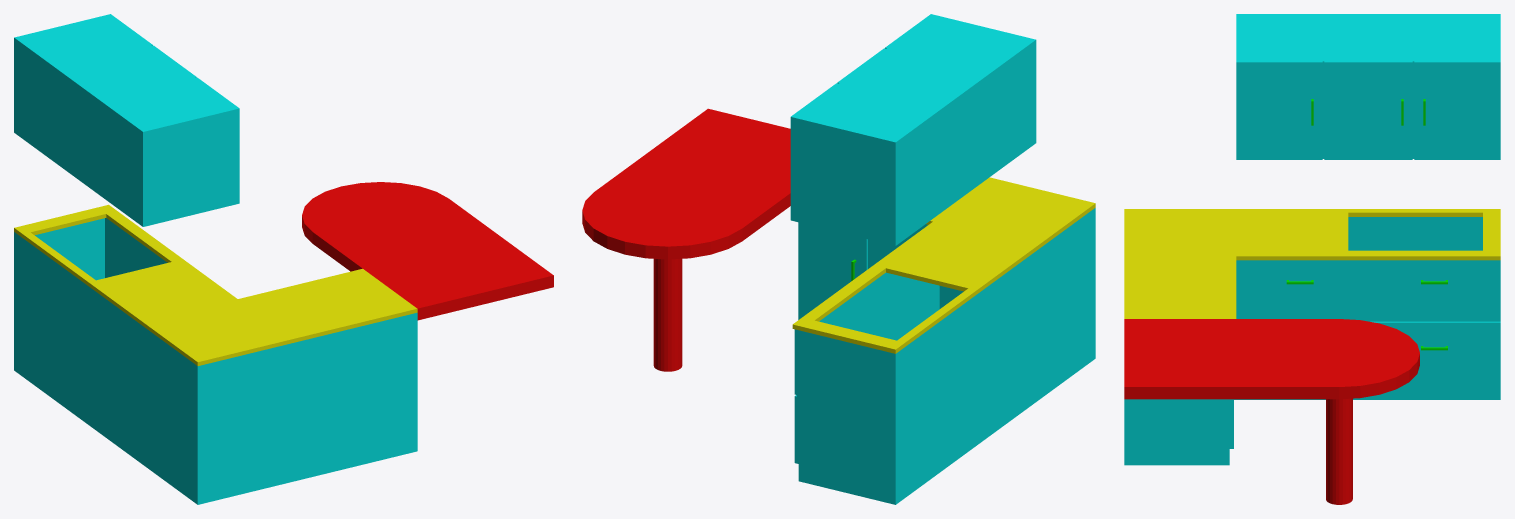
The model's file is OM_1BHK_CM_Kitchen_Cabinate.fbx.
3 views of the same model, side by side, from view 1: azimuth 30°, elevation 25°; view 2: azimuth 150°, elevation 25°; view 3: azimuth 270°, elevation 25° (orthographic). The views are drawn at different scales.
Visible parts, largest first — view 1: OM_1BHK_Kitchen_Cabinates_01_B_Main_cage, OM_1BHK_Kitchen_Cabinates_01_T_Main_cage, OM_1BHK_Kitchen_Cabinates_01_B_Topmarble, OM_1BHK_Kitchen_Dining_Table_01_Top, OM_1BHK_Kitchen_Cabinates_01_B_Doors; view 2: OM_1BHK_Kitchen_Cabinates_01_B_Main_cage, OM_1BHK_Kitchen_Cabinates_01_T_Main_cage, OM_1BHK_Kitchen_Dining_Table_01_Top, OM_1BHK_Kitchen_Cabinates_01_B_Topmarble, OM_1BHK_Kitchen_Cabinates_01_B_Doors, OM_1BHK_Kitchen_Dining_Table_01_Leg, OM_1BHK_Kitchen_Cabinates_01_T_Doors; view 3: OM_1BHK_Kitchen_Cabinates_01_T_Doors, OM_1BHK_Kitchen_Dining_Table_01_Top, OM_1BHK_Kitchen_Cabinates_01_B_Topmarble, OM_1BHK_Kitchen_Cabinates_01_B_Doors, OM_1BHK_Kitchen_Cabinates_01_B_Main_cage, OM_1BHK_Kitchen_Cabinates_01_T_Main_cage, OM_1BHK_Kitchen_Dining_Table_01_Leg.
Part boxes in pixels (x1,y1,x2,y2): OM_1BHK_Kitchen_Cabinates_01_B_Main_cage: [14, 218, 417, 504]; OM_1BHK_Kitchen_Cabinates_01_T_Main_cage: [14, 14, 237, 226]; OM_1BHK_Kitchen_Cabinates_01_B_Topmarble: [14, 204, 417, 365]; OM_1BHK_Kitchen_Dining_Table_01_Top: [302, 182, 553, 320]; OM_1BHK_Kitchen_Cabinates_01_B_Doors: [105, 218, 167, 277]; OM_1BHK_Kitchen_Cabinates_01_B_Main_cage: [796, 208, 1095, 504]; OM_1BHK_Kitchen_Cabinates_01_T_Main_cage: [792, 14, 1036, 245]; OM_1BHK_Kitchen_Dining_Table_01_Top: [582, 108, 790, 259]; OM_1BHK_Kitchen_Cabinates_01_B_Topmarble: [792, 177, 1095, 353]; OM_1BHK_Kitchen_Cabinates_01_B_Doors: [794, 222, 939, 463]; OM_1BHK_Kitchen_Dining_Table_01_Leg: [653, 259, 682, 371]; OM_1BHK_Kitchen_Cabinates_01_T_Doors: [790, 14, 932, 220]; OM_1BHK_Kitchen_Cabinates_01_T_Doors: [1236, 61, 1500, 159]; OM_1BHK_Kitchen_Dining_Table_01_Top: [1124, 319, 1419, 399]; OM_1BHK_Kitchen_Cabinates_01_B_Topmarble: [1124, 209, 1500, 318]; OM_1BHK_Kitchen_Cabinates_01_B_Doors: [1231, 260, 1500, 448]; OM_1BHK_Kitchen_Cabinates_01_B_Main_cage: [1124, 217, 1500, 465]; OM_1BHK_Kitchen_Cabinates_01_T_Main_cage: [1236, 14, 1500, 158]; OM_1BHK_Kitchen_Dining_Table_01_Leg: [1326, 398, 1352, 504].
Size of the model in its own units: 7.83 by 7 by 7.
